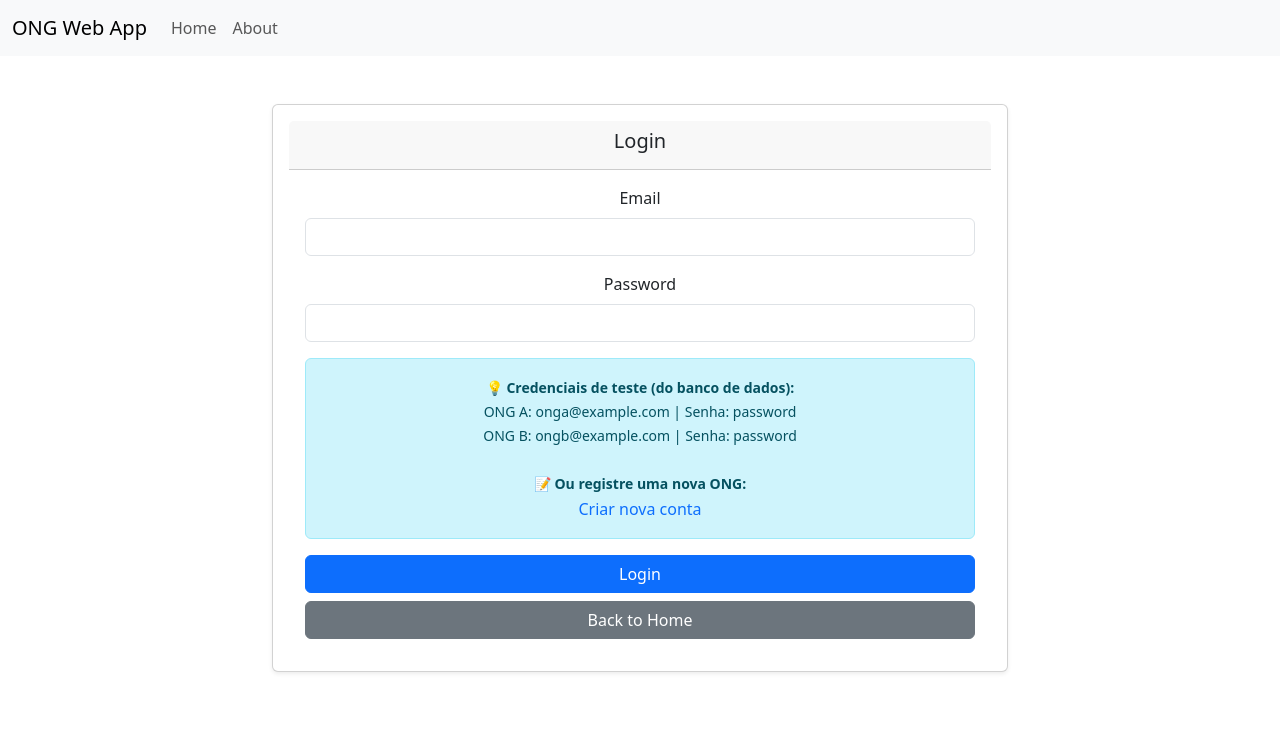
Test case: Login page flow › successful login redirects to /ong and shows dashboard
Type "onga@example.com" into the field labelled "Email" at (640, 237), box [305,218,975,256]
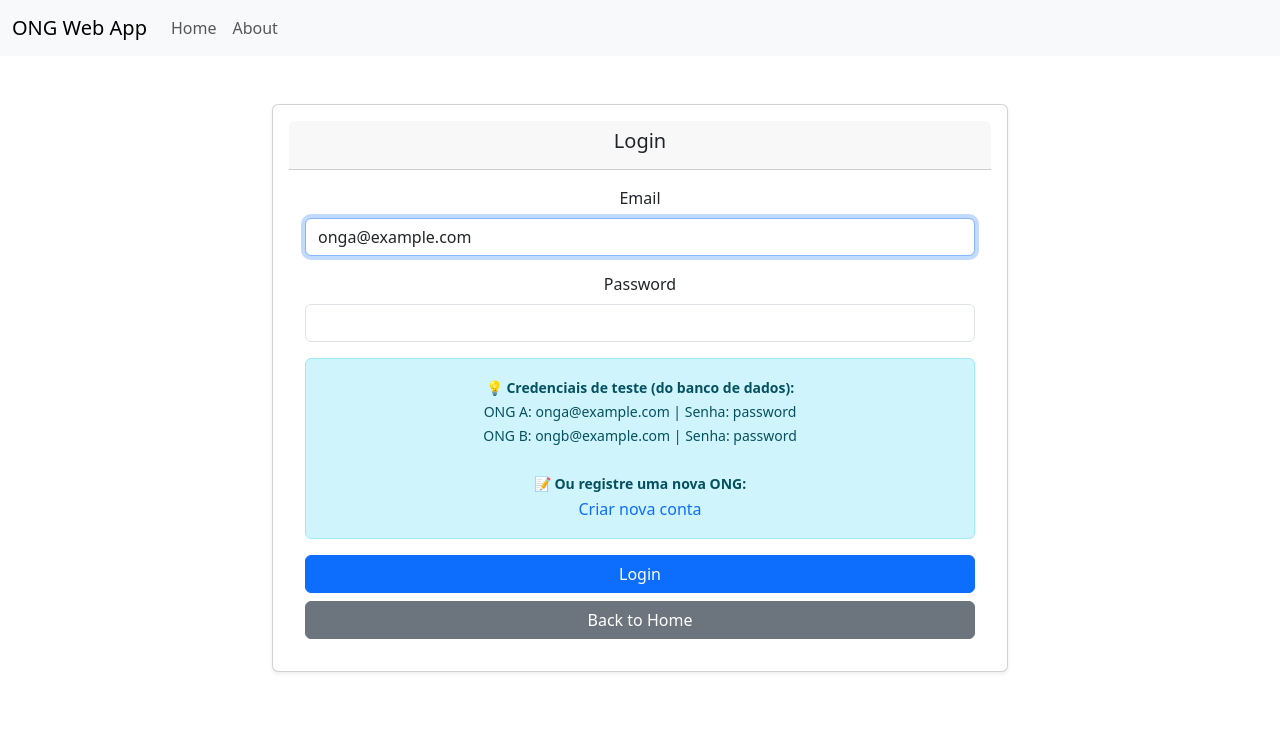
Type "password" into the password field labelled "Password" at (640, 323), box [305,304,975,342]
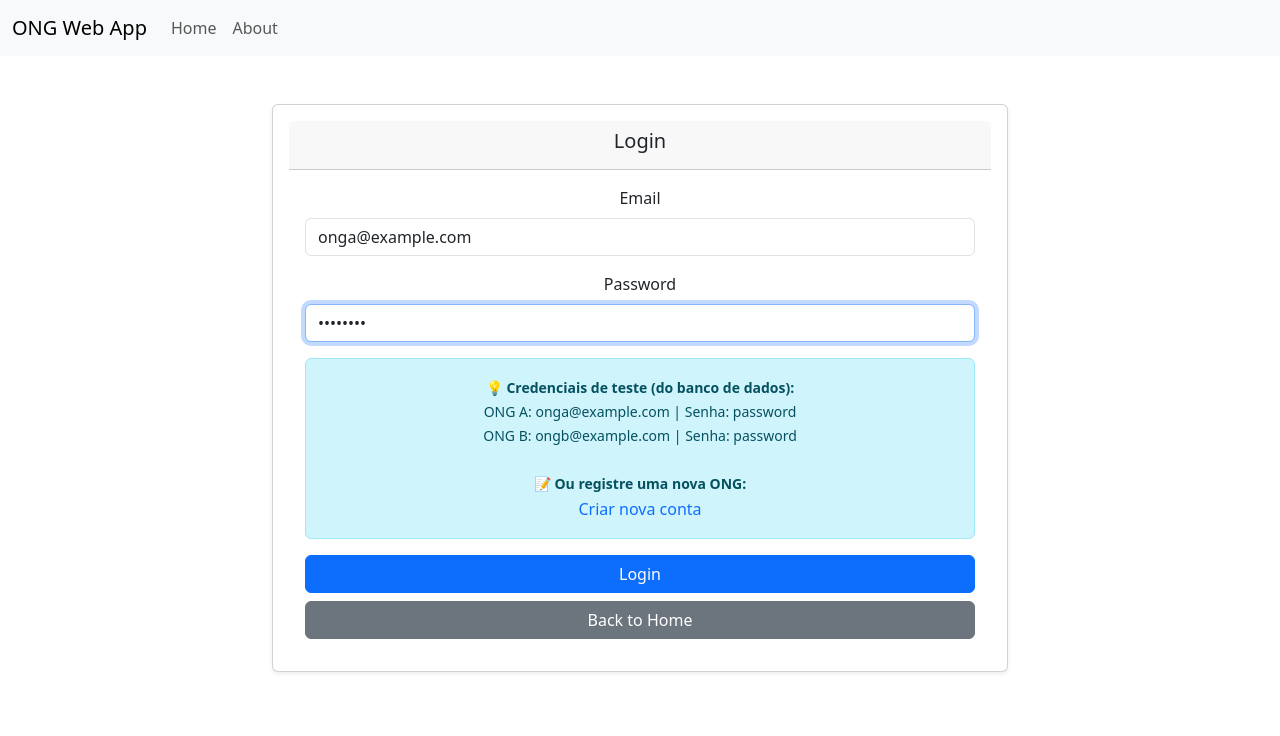
Click the button "Login" at (640, 574), box [305,555,975,593]
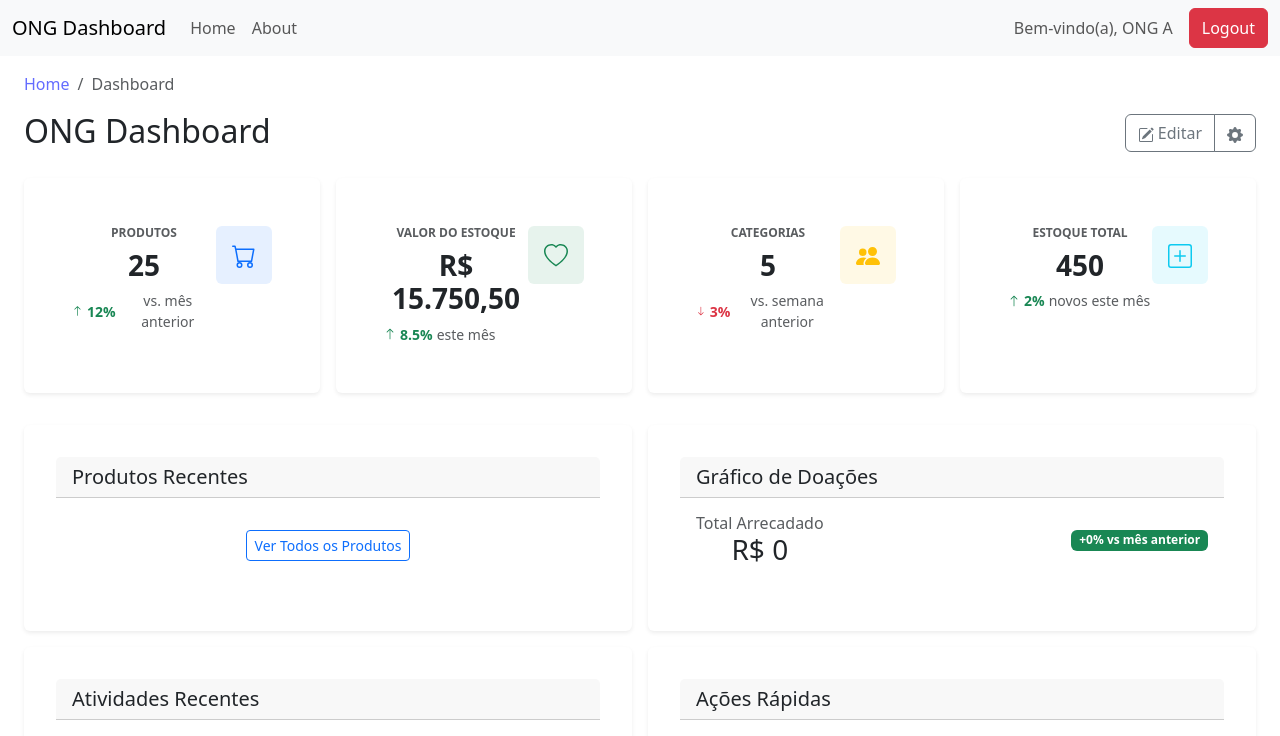
Expected: the heading "ONG Dashboard" is shown, [24,112,271,150]
